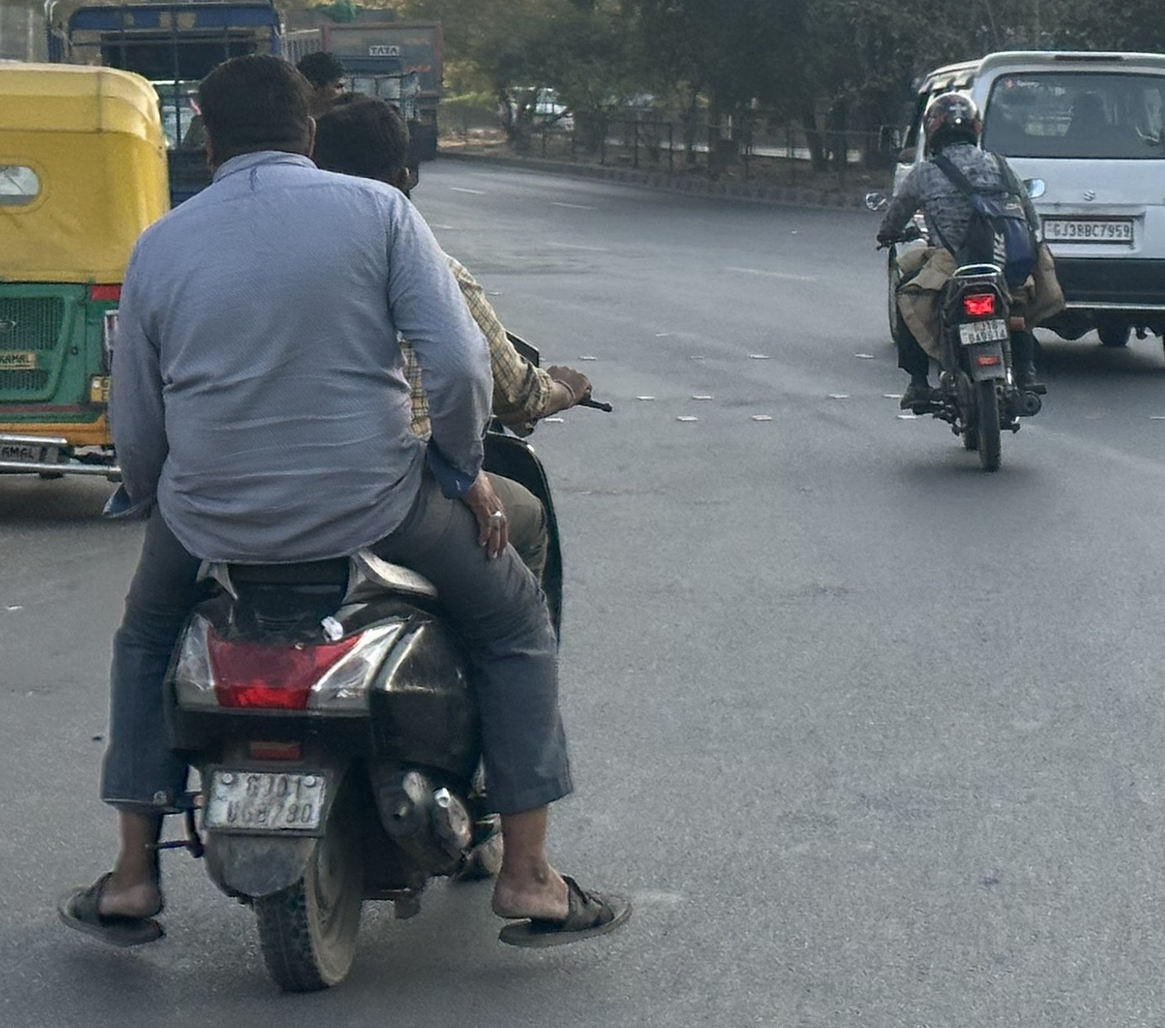BikeWithRider: (43, 39, 644, 1004), (857, 83, 1074, 482)
Helmet: (913, 84, 992, 162)
NoHelmet: (185, 43, 329, 183), (298, 86, 434, 210)
